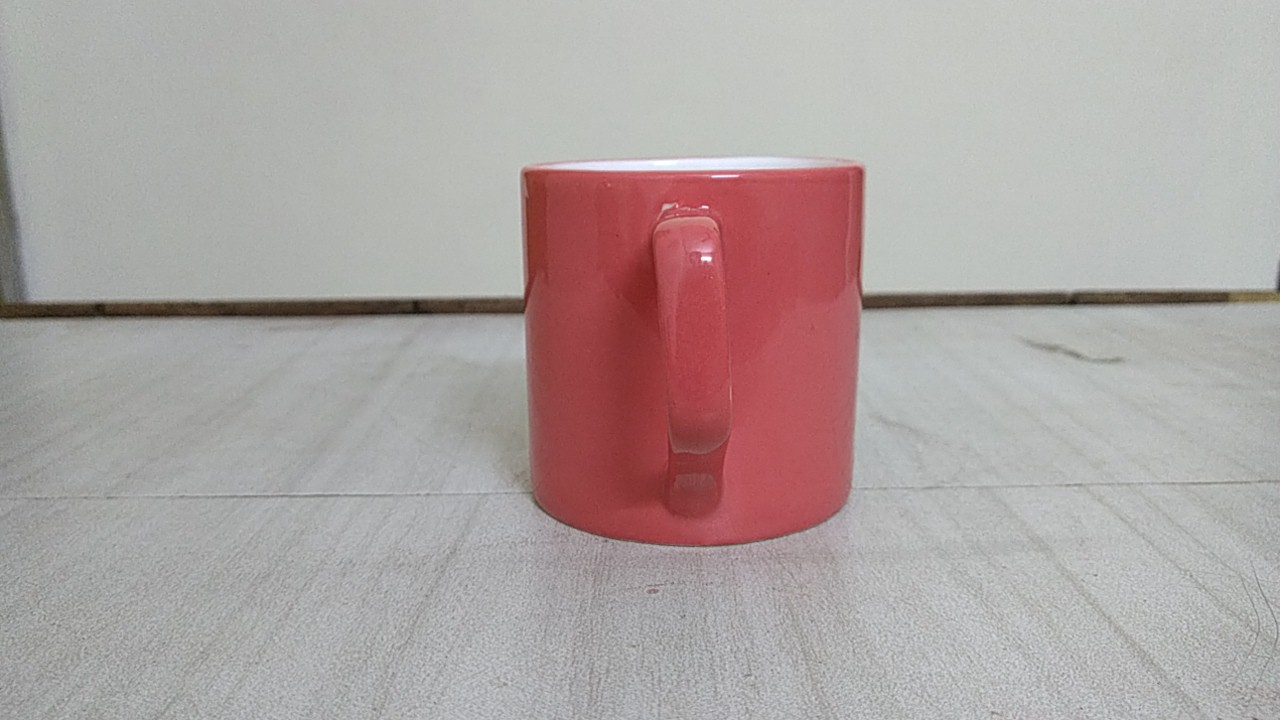cup: (498, 145, 888, 567)
